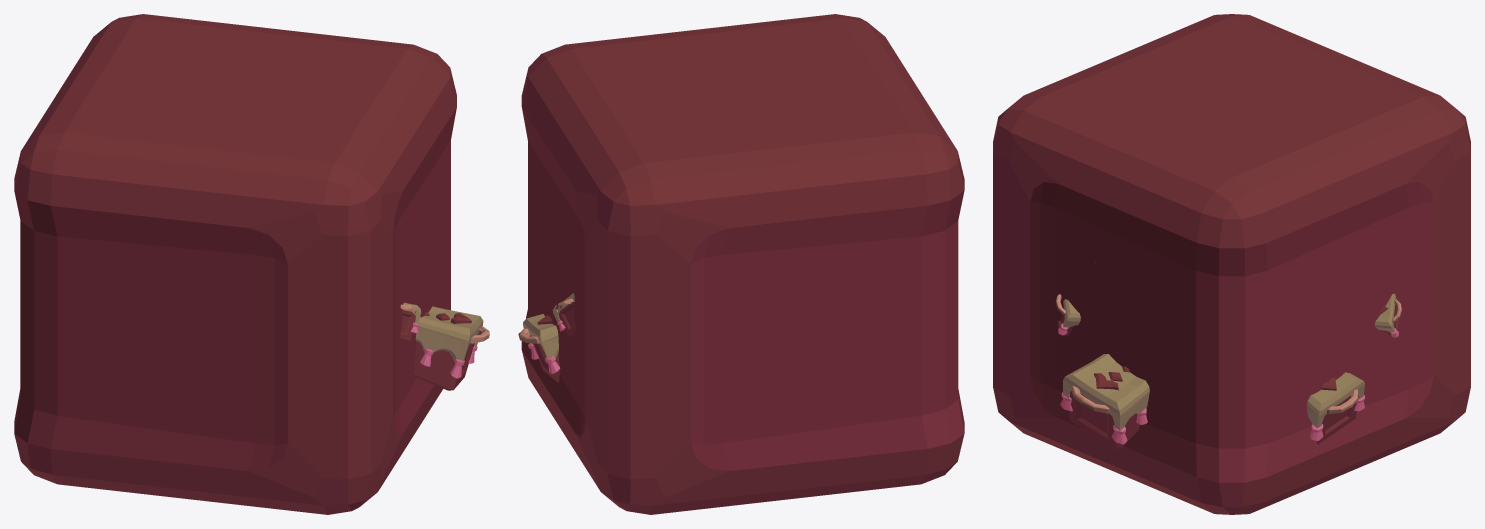
Rendered from LevelFloors.fbx.
3 views of the same model, side by side, from view 1: azimuth 30°, elevation 25°; view 2: azimuth 150°, elevation 25°; view 3: azimuth 270°, elevation 25° (orthographic). The views are drawn at different scales.
Visible parts, largest first — view 1: FloorCube, FakeWalls, FloorDiorama; view 2: FloorCube, FakeWalls, FloorDiorama; view 3: FloorCube, FakeWalls, FloorDiorama.
Part boxes in pixels (x1=…): FloorCube: x1=14, y1=14, x2=456, y2=514; FakeWalls: x1=14, y1=107, x2=456, y2=470; FloorDiorama: x1=400, y1=302, x2=489, y2=390; FloorCube: x1=521, y1=14, x2=964, y2=514; FakeWalls: x1=521, y1=107, x2=964, y2=470; FloorDiorama: x1=518, y1=293, x2=575, y2=382; FloorCube: x1=993, y1=14, x2=1470, y2=514; FakeWalls: x1=1030, y1=182, x2=1433, y2=482; FloorDiorama: x1=1055, y1=262, x2=1401, y2=449.
Bounding box in the file's own units: 129 × 100 × 129.
